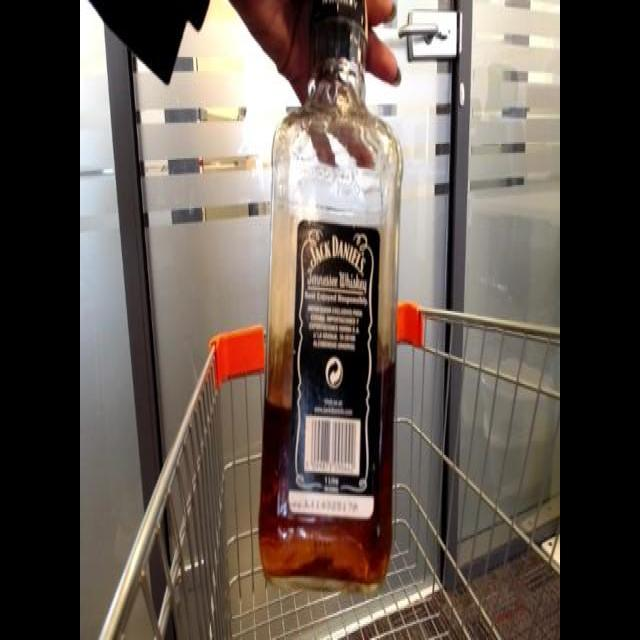Jack Daniels: (236, 0, 410, 604)
